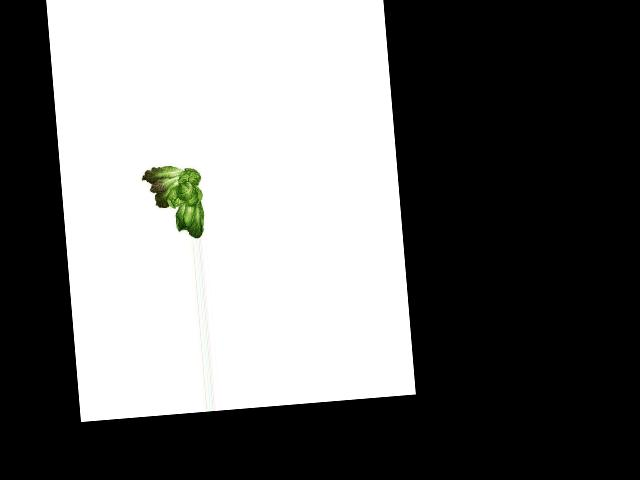lettuce: (137, 161, 210, 243)
